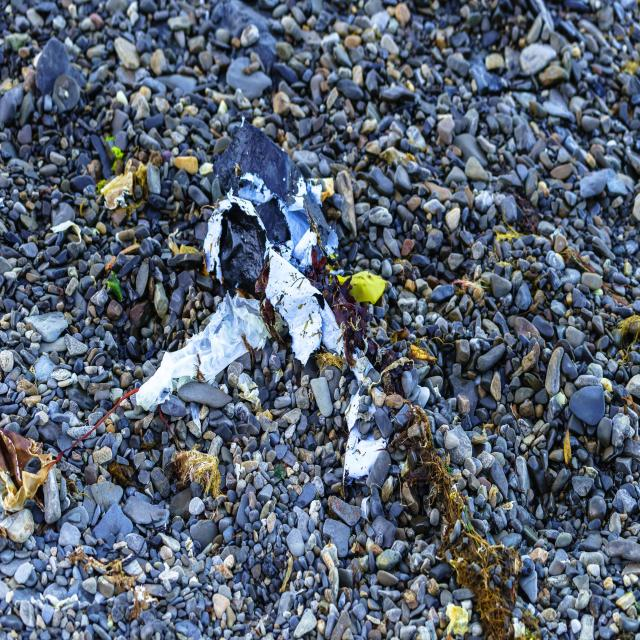litter: (136, 200, 388, 484), (214, 117, 338, 273), (325, 255, 385, 305)
